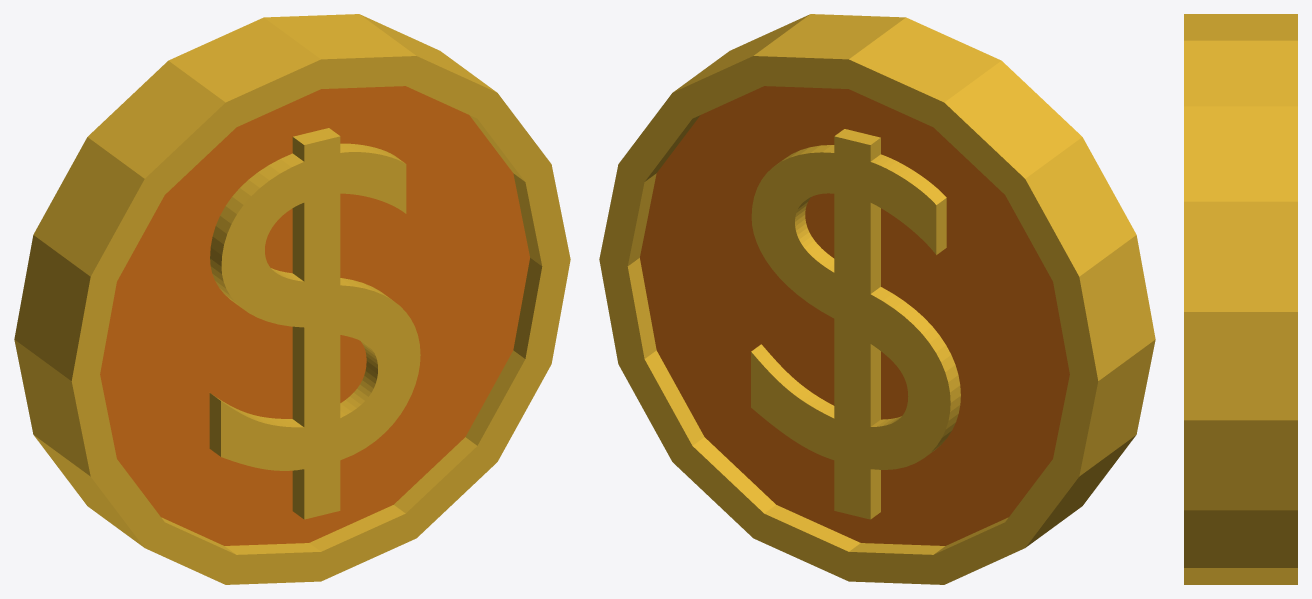
File: Dollar.fbx
The picture shows the model from 3 angles, left to right: view 1: azimuth 30°, elevation 25°; view 2: azimuth 150°, elevation 25°; view 3: azimuth 270°, elevation 25°; orthographic projection.
Visible parts, largest first — view 1: Dollar; view 2: Dollar; view 3: Dollar.
Part boxes in pixels (x1,y1,x2,y2): Dollar: (14,14,570,584); Dollar: (599,14,1155,584); Dollar: (1184,14,1297,584).
Bounding box in the file's own units: 84.1 × 84.1 × 16.74.
